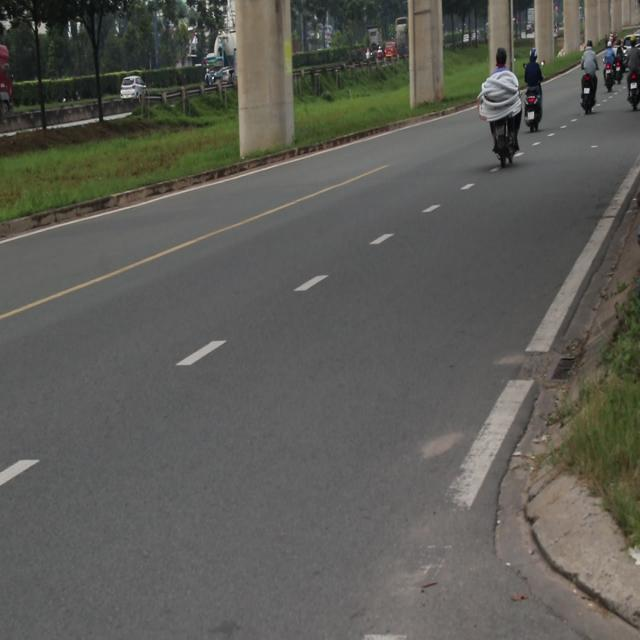car: (121, 75, 147, 101)
motorbike: (476, 102, 517, 174), (523, 81, 545, 134), (582, 74, 598, 114), (624, 83, 640, 119), (602, 61, 616, 91), (612, 56, 622, 85)
truck: (1, 43, 20, 136)
